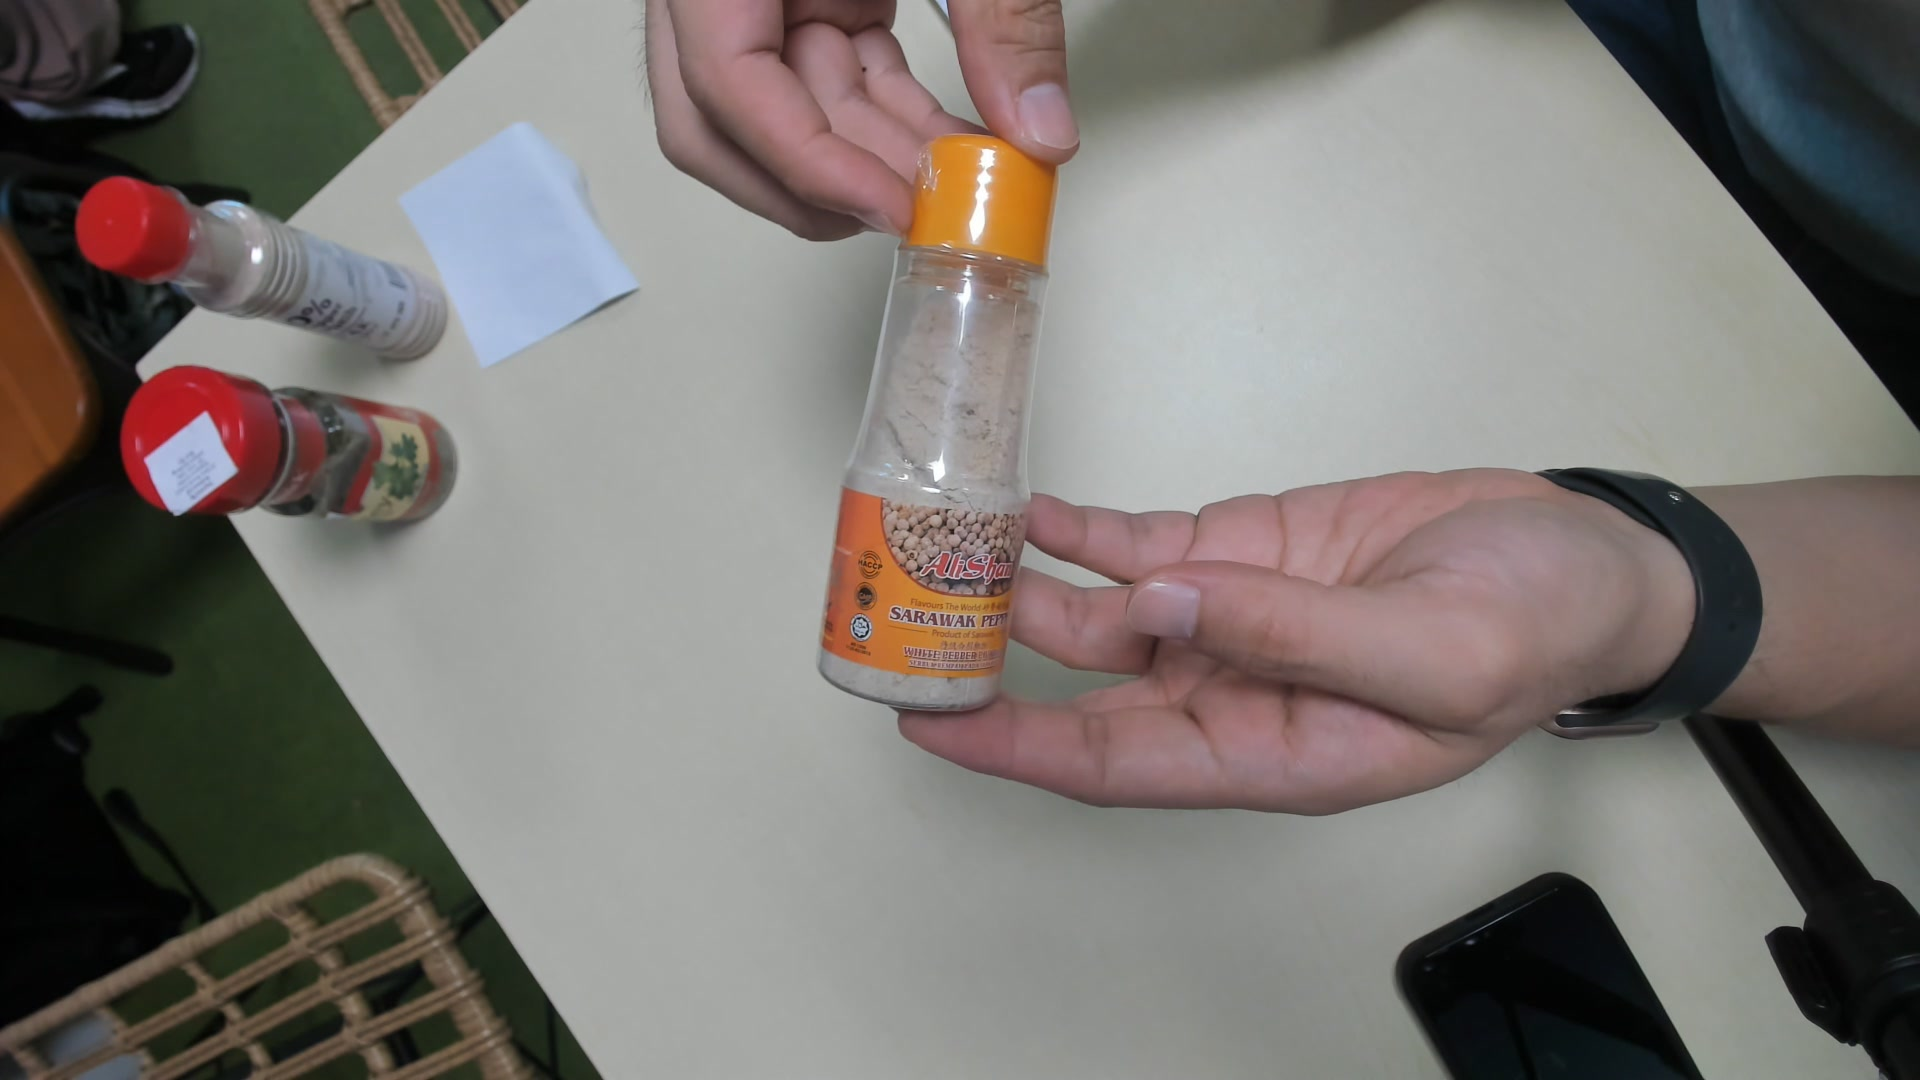HerbsSpicesPepper_400-499g_Halal_NonHealthy: (818, 131, 1058, 709)
